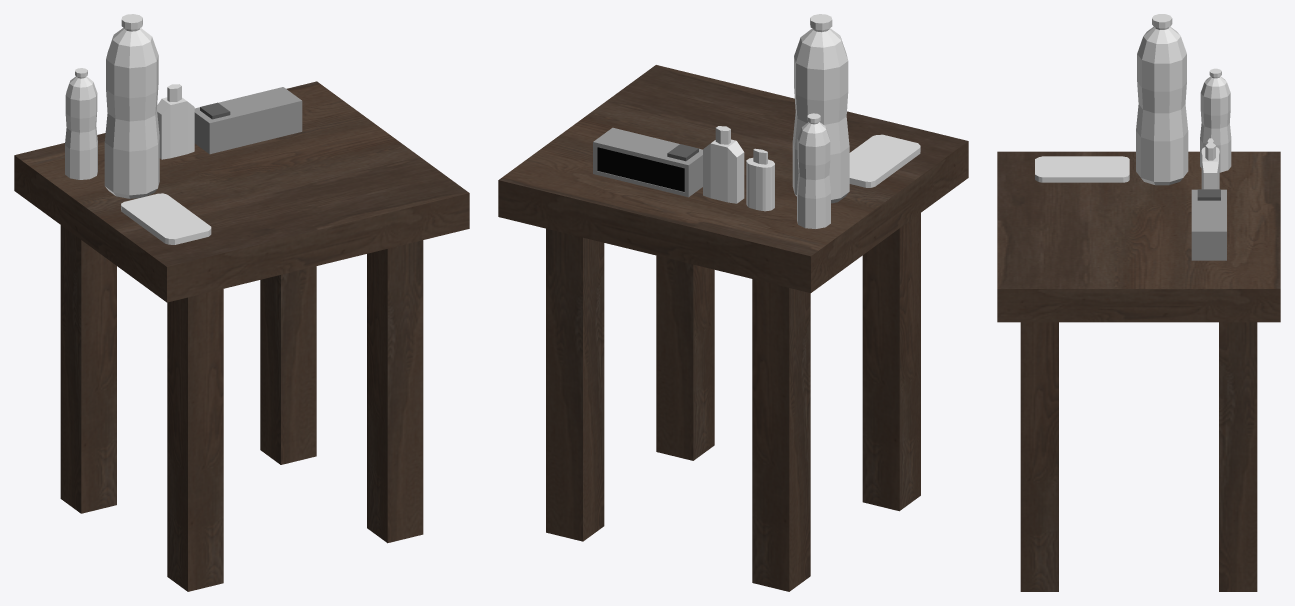
The model's file is table_collection_1.fbx.
3 renders of one model, left to right at view 1: azimuth 30°, elevation 25°; view 2: azimuth 150°, elevation 25°; view 3: azimuth 270°, elevation 25°, orthographic. The views are drawn at different scales.
Parts seen in each view (by area): view 1: Headboard_1, Bottle_2, AlarmClock_1, Bottle_1, Phone_1, Perfume_1; view 2: Headboard_1, Bottle_2, AlarmClock_1, Bottle_1, Perfume_1, Phone_1, Perfume_2; view 3: Headboard_1, Bottle_2, AlarmClock_1, Phone_1, Bottle_1, Perfume_1.
Boxes of the visible parts, left/top/right/bottom form: Headboard_1: left=14, top=81, right=469, bottom=591; Bottle_2: left=104, top=14, right=159, bottom=198; AlarmClock_1: left=194, top=87, right=302, bottom=154; Bottle_1: left=65, top=68, right=97, bottom=179; Phone_1: left=121, top=193, right=211, bottom=244; Perfume_1: left=157, top=84, right=194, bottom=159; Headboard_1: left=498, top=65, right=968, bottom=591; Bottle_2: left=792, top=14, right=849, bottom=203; AlarmClock_1: left=593, top=127, right=702, bottom=197; Bottle_1: left=797, top=113, right=830, bottom=228; Perfume_1: left=703, top=126, right=744, bottom=203; Phone_1: left=849, top=134, right=920, bottom=187; Perfume_2: left=746, top=148, right=774, bottom=211; Headboard_1: left=997, top=151, right=1280, bottom=591; Bottle_2: left=1136, top=14, right=1188, bottom=185; AlarmClock_1: left=1191, top=189, right=1226, bottom=260; Phone_1: left=1035, top=156, right=1129, bottom=182; Bottle_1: left=1200, top=68, right=1231, bottom=172; Perfume_1: left=1202, top=143, right=1218, bottom=189.
Size of the model in its own units: 79.91 by 129 by 69.8.
